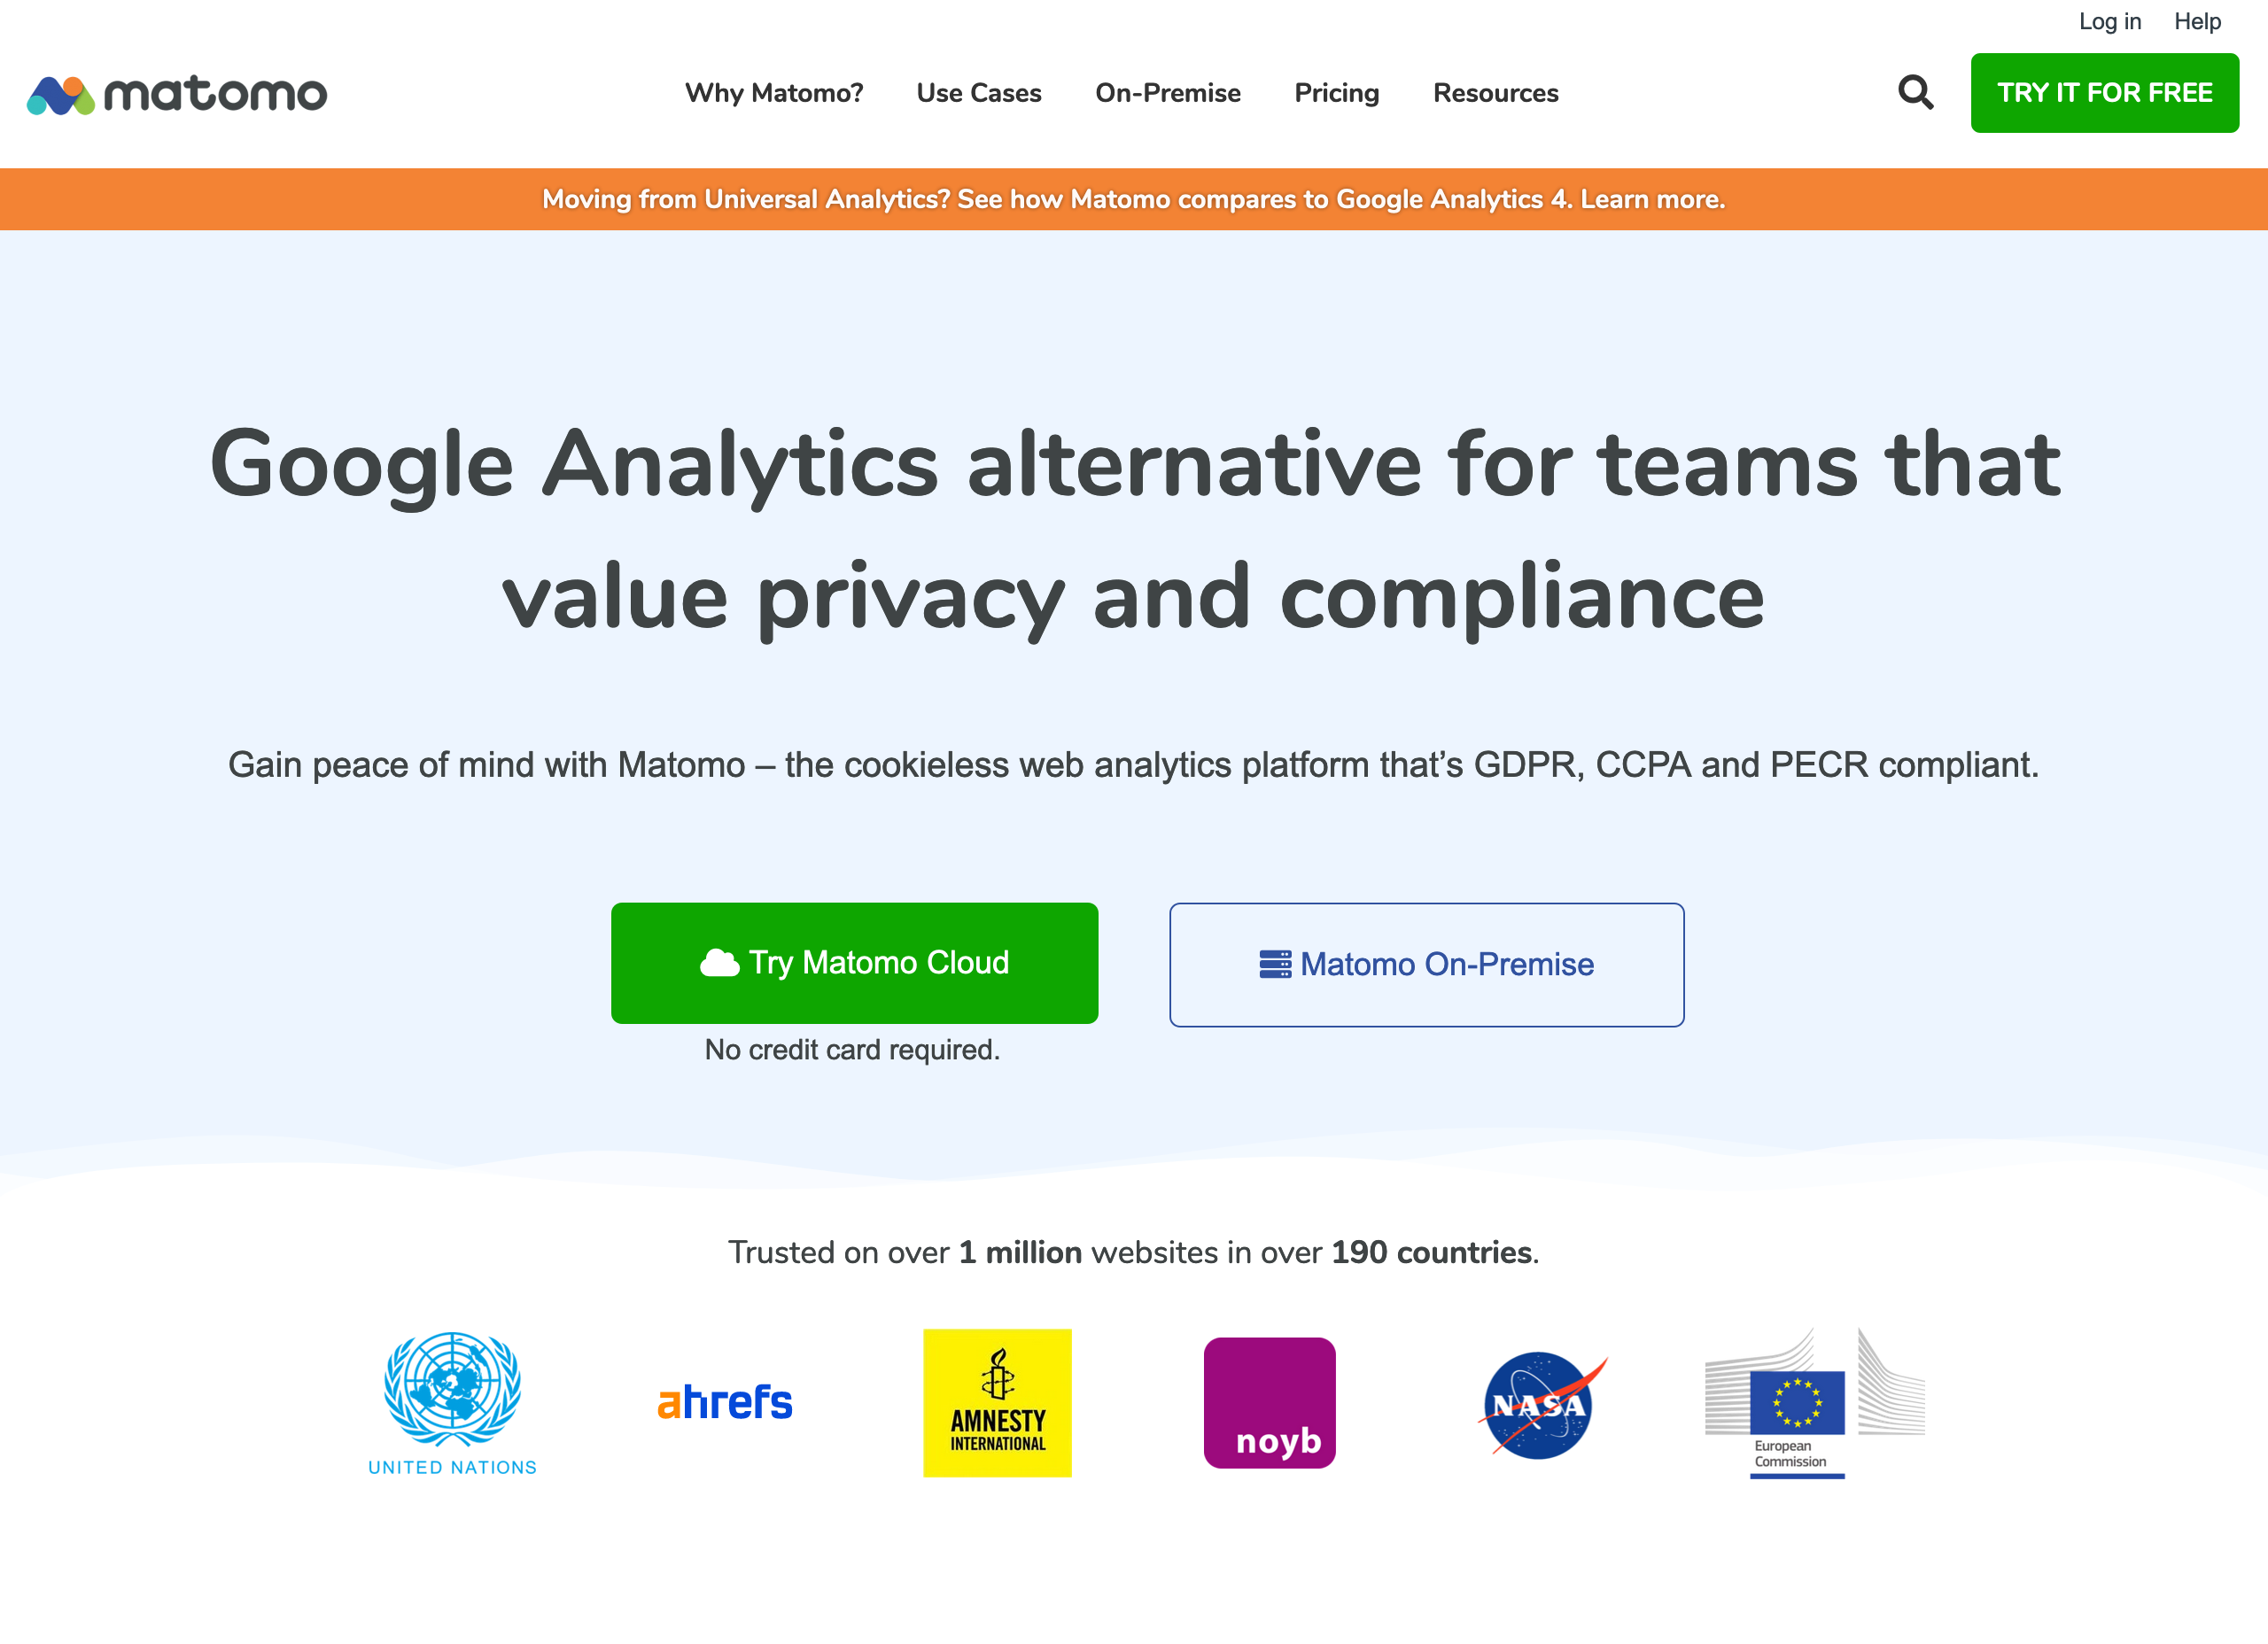Login: (2069, 4, 2155, 37)
